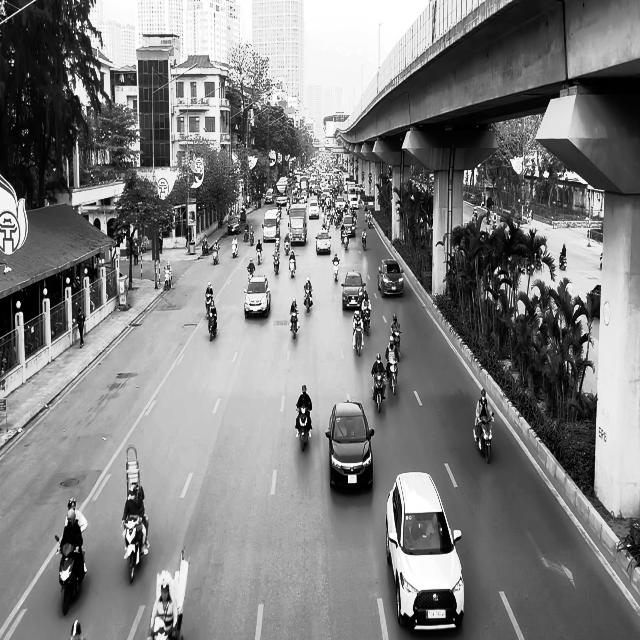car: (385, 471, 465, 631), (325, 398, 374, 490), (243, 275, 271, 319), (377, 258, 404, 297), (341, 271, 366, 310), (316, 230, 331, 254)
motorbike: (54, 535, 87, 615), (122, 514, 148, 584), (473, 412, 494, 463), (296, 404, 311, 451), (372, 370, 386, 412), (352, 322, 364, 357), (208, 310, 218, 341), (290, 310, 299, 339), (303, 287, 313, 312), (163, 267, 172, 290), (332, 258, 339, 281), (289, 256, 296, 278), (559, 252, 567, 270), (247, 264, 254, 284), (273, 252, 279, 274), (361, 230, 367, 249), (213, 246, 219, 264), (232, 242, 238, 258)
